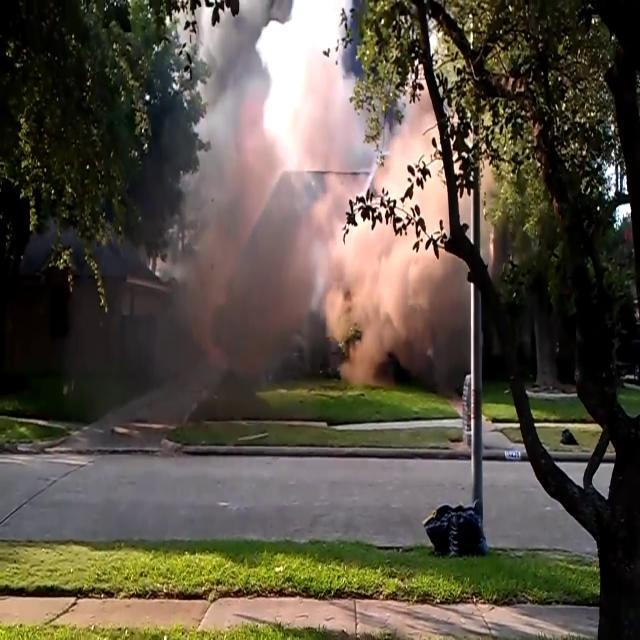Smoke: (135, 2, 355, 412), (323, 163, 474, 407)
